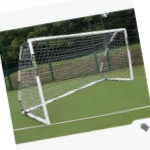goals: (15, 28, 136, 124)
